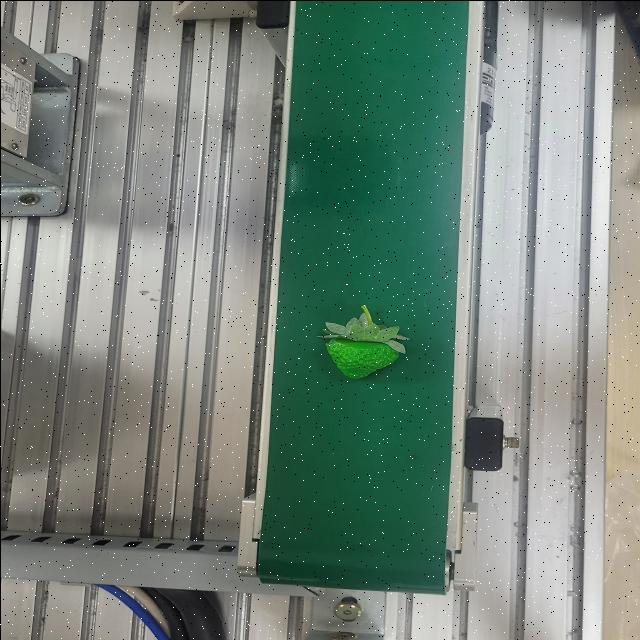Small Unripe Strawberry: (317, 304, 411, 381)
